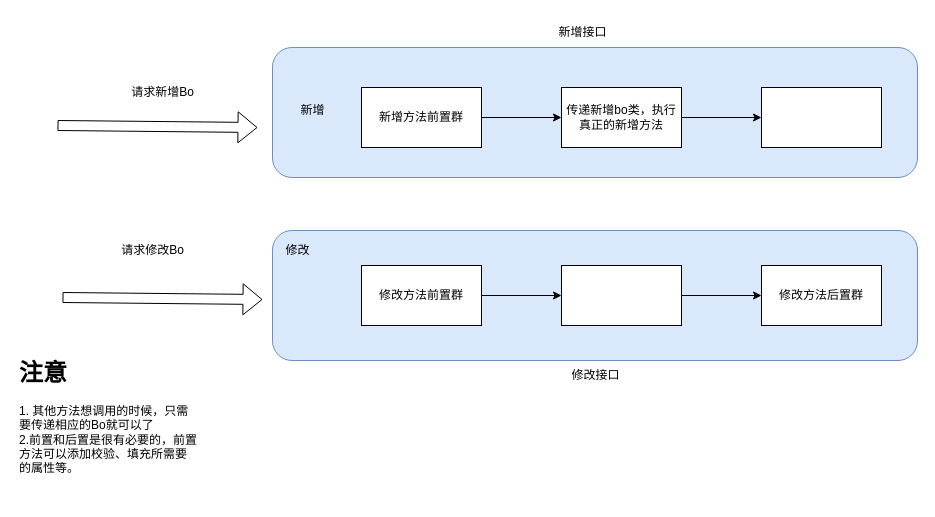
The diagram is 935 pixels wide and 517 high, and some of its shapes have lost their labels. The shapes that lost their labels are listed below. From the top down, each one's centre as x and y in pixels, then its label:
At [821,117]: "新增方法后置群".
At [621,295]: "传递修改bo类，执行真正的修改方法".
